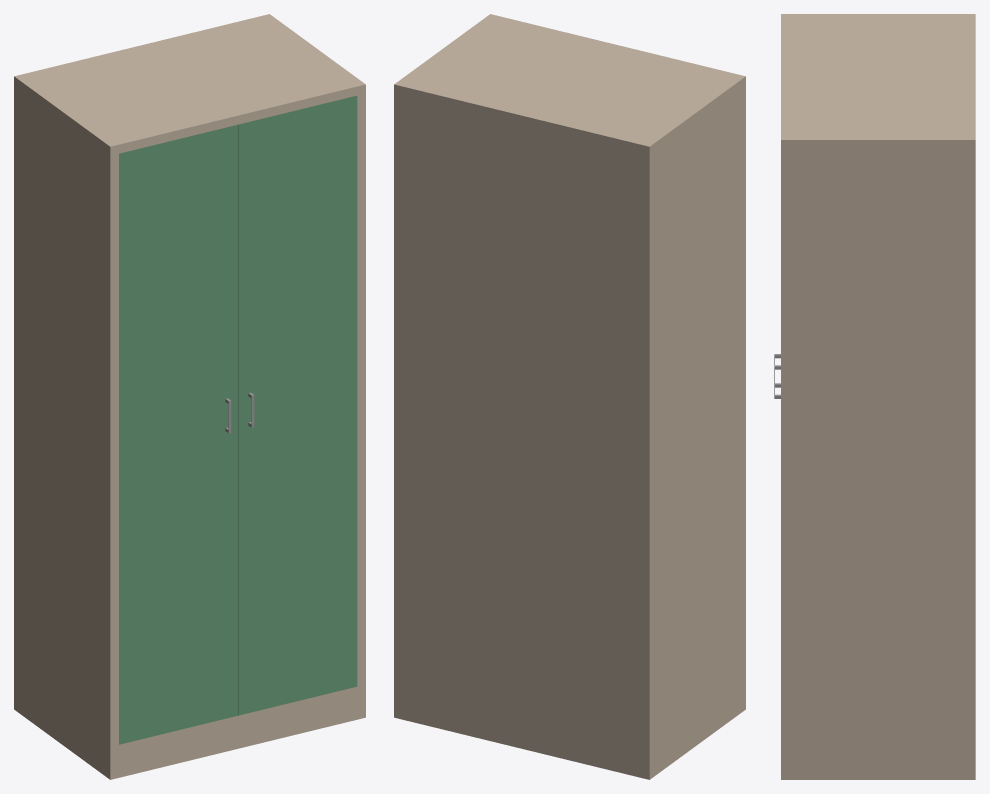
Rendered from GreenCabinet.fbx.
The picture shows the model from 3 angles, left to right: view 1: azimuth 30°, elevation 25°; view 2: azimuth 150°, elevation 25°; view 3: azimuth 270°, elevation 25°; orthographic projection.
Visible parts, largest first — view 1: GreenDoorCabinet, GreenCabinetDoorR, GreenCabinetDoorL; view 2: GreenDoorCabinet; view 3: GreenDoorCabinet.
Boxes of the visible parts, x1,y1,x2,y2 form: GreenDoorCabinet: (14, 14, 365, 779); GreenCabinetDoorR: (238, 95, 357, 715); GreenCabinetDoorL: (119, 124, 237, 744); GreenDoorCabinet: (394, 14, 745, 779); GreenDoorCabinet: (781, 14, 975, 779).
Size of the model in its own units: 0.889 by 2.11 by 0.6.
